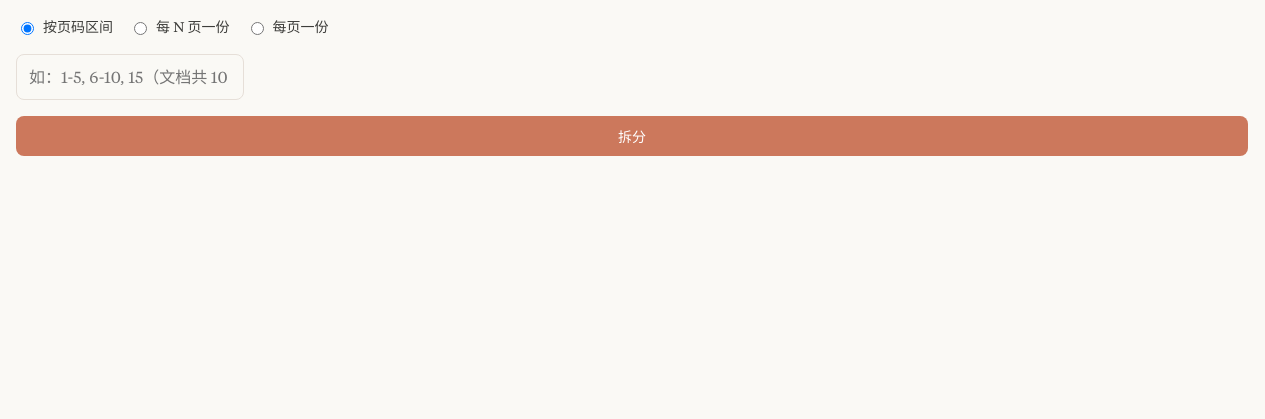
Test: PdfToolSplit › splits every N pages
The image size is (1265, 419).
Click the text "每 N 页一份" at (193, 27), box [156,16,230,38]
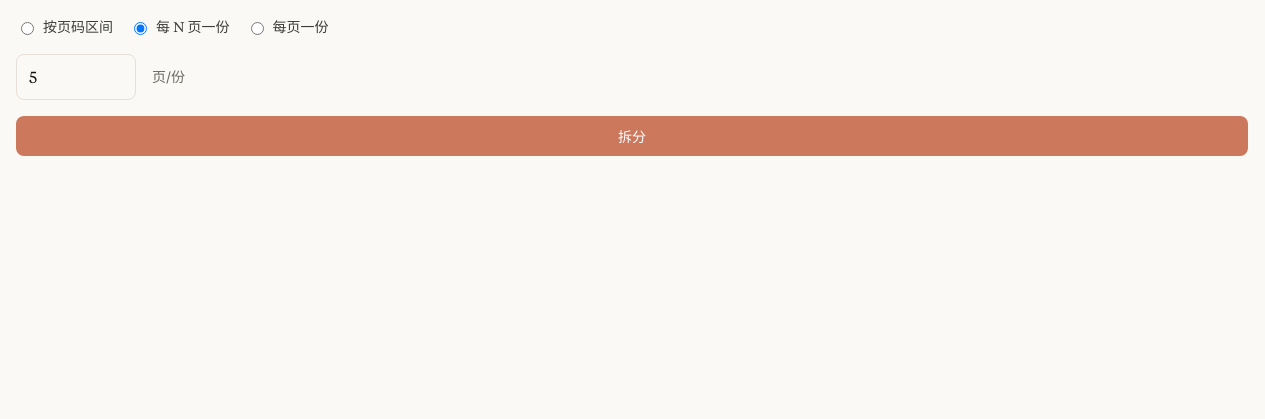
Replace the text in the number field named "每份页数" with "4" at (76, 77), box [16,54,136,100]
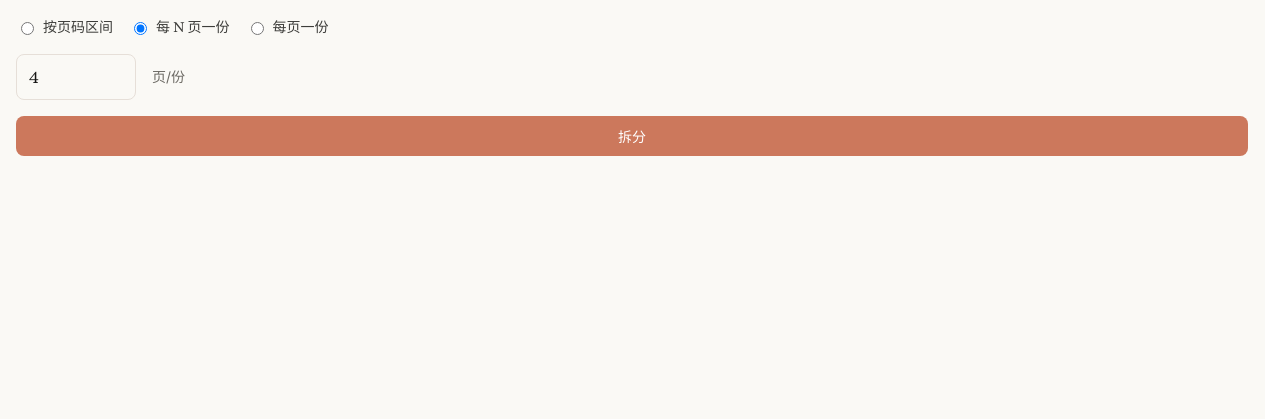
Click the button "拆分" at (632, 136), box [16,116,1248,156]
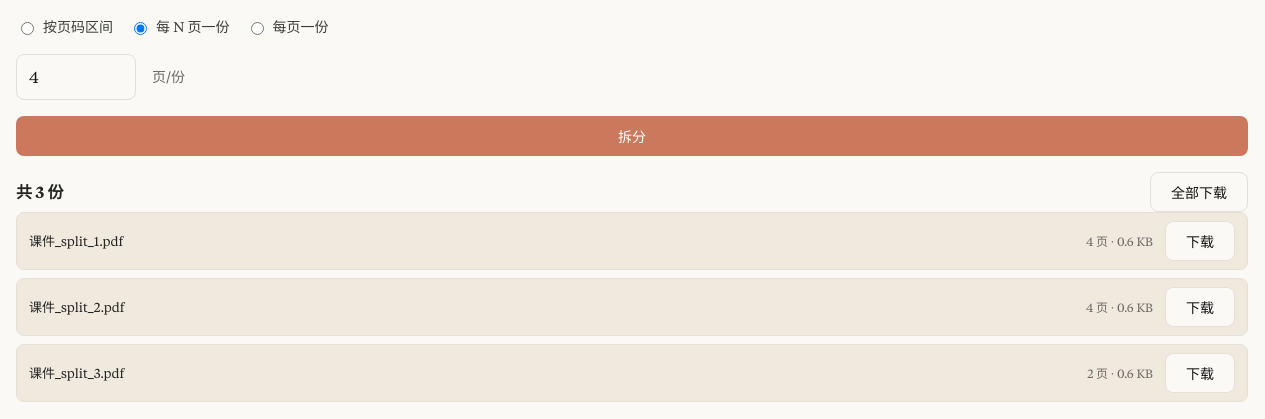
expect the number of buttons "下载" is 3: met, box [1165,222,1235,262]; [1165,288,1235,328]; [1165,354,1235,394]
